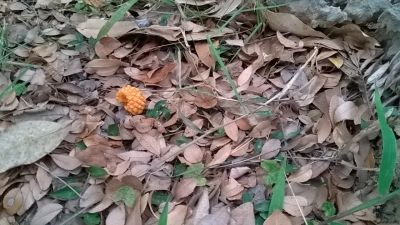eggs: (116, 85, 146, 114)
